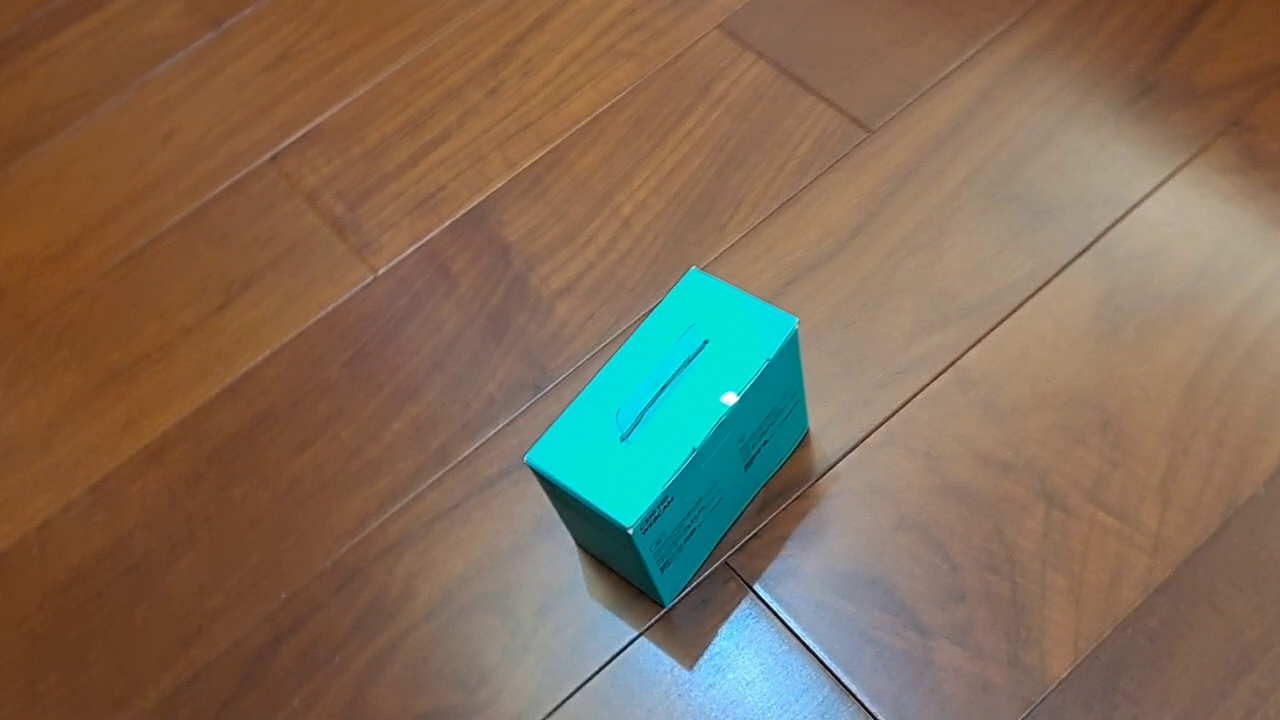webcam: (521, 265, 811, 611)
